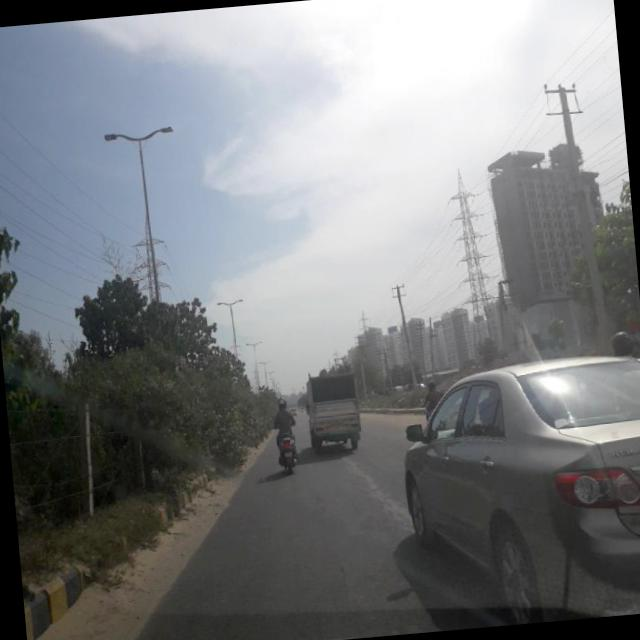crack: (145, 466, 404, 640)
